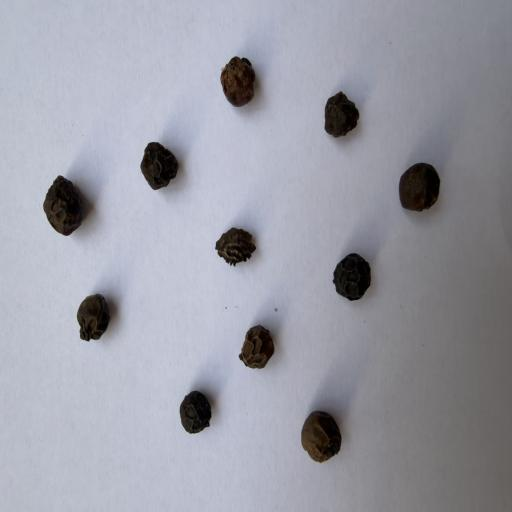Black_pepper: (333, 228, 409, 330), (298, 401, 374, 497), (323, 51, 379, 167), (391, 138, 468, 222), (130, 105, 198, 196), (162, 379, 225, 469), (34, 165, 92, 253), (207, 36, 271, 114), (61, 288, 121, 371), (238, 319, 294, 394)
papaya_seed: (214, 214, 274, 287)
